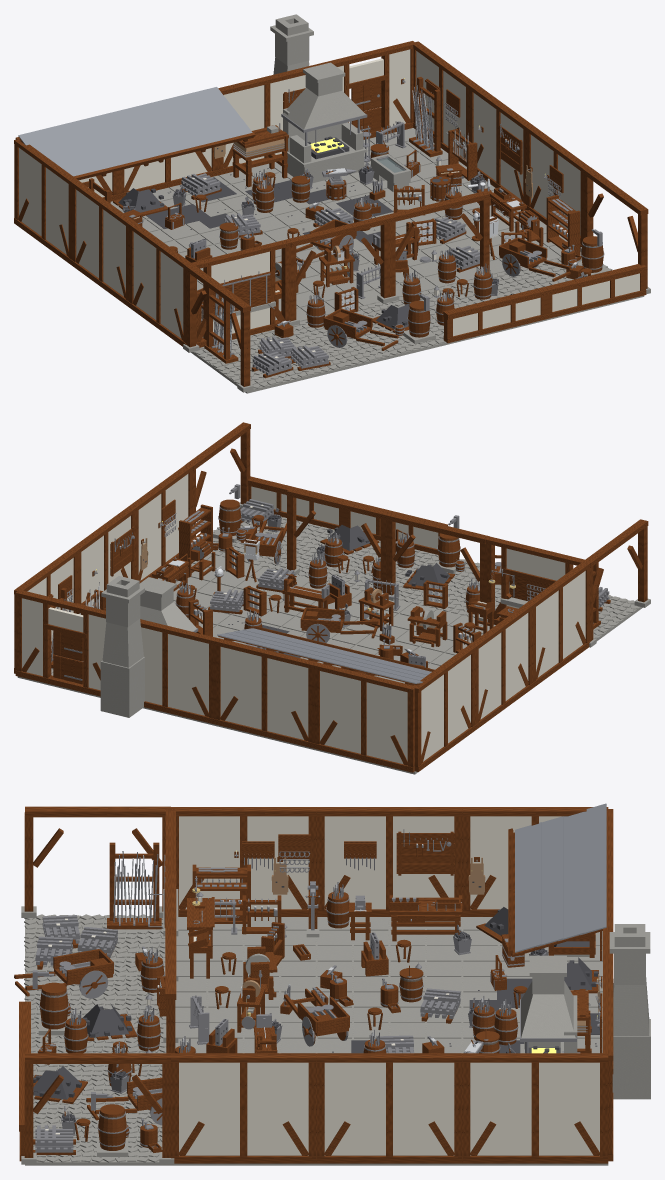
Rendered from blacksmith--bb9e9c8a-starter-scene.glb.
3 views of the same model, one above another, from view 1: azimuth 30°, elevation 25°; view 2: azimuth 150°, elevation 25°; view 3: azimuth 270°, elevation 25° (orthographic). The views are drawn at different scales.
Parts seen in each view (by area): view 1: 035-blacksmith-forge-and-armoury-forge-hearth-and-hood/0, 034-blacksmith-forge-and-armoury-lean-to-roof-panel/1, 033-blacksmith-forge-and-armoury-lean-to-roof-panel/1, 022-blacksmith-forge-and-armoury-timber-frame-wall/0, 007-blacksmith-forge-and-armoury-forge-floor-slab-cobbled/0, 020-blacksmith-forge-and-armoury-timber-frame-wall/0, 021-blacksmith-forge-and-armoury-timber-frame-wall/0, 003-blacksmith-forge-and-armoury-forge-floor-slab-cobbled/0, 028-blacksmith-forge-and-armoury-shutter-counter-front/0, 029-blacksmith-forge-and-armoury-timber-frame-bay/1, 023-blacksmith-forge-and-armoury-timber-frame-bay/1, 025-blacksmith-forge-and-armoury-timber-frame-wall/0 (+60 smaller); view 2: 017-blacksmith-forge-and-armoury-timber-frame-wall/0, 016-blacksmith-forge-and-armoury-timber-frame-wall/0, 036-blacksmith-forge-and-armoury-chimney-stack/0, 018-blacksmith-forge-and-armoury-timber-frame-wall/0, 016-blacksmith-forge-and-armoury-timber-frame-wall/1, 019-blacksmith-forge-and-armoury-stable-door-module/0, 021-blacksmith-forge-and-armoury-timber-frame-wall/0, 017-blacksmith-forge-and-armoury-timber-frame-wall/1, 020-blacksmith-forge-and-armoury-timber-frame-wall/0, 022-blacksmith-forge-and-armoury-timber-frame-wall/0, 019-blacksmith-forge-and-armoury-stable-door-module/1, 006-blacksmith-forge-and-armoury-forge-floor-slab/0 (+51 smaller); view 3: 025-blacksmith-forge-and-armoury-timber-frame-wall/0, 026-blacksmith-forge-and-armoury-timber-frame-wall/0, 024-blacksmith-forge-and-armoury-timber-frame-wall/0, 022-blacksmith-forge-and-armoury-timber-frame-wall/0, 021-blacksmith-forge-and-armoury-timber-frame-wall/0, 036-blacksmith-forge-and-armoury-chimney-stack/0, 001-blacksmith-forge-and-armoury-forge-floor-slab/0, 034-blacksmith-forge-and-armoury-lean-to-roof-panel/1, 024-blacksmith-forge-and-armoury-timber-frame-wall/1, 025-blacksmith-forge-and-armoury-timber-frame-wall/1, 026-blacksmith-forge-and-armoury-timber-frame-wall/1, 033-blacksmith-forge-and-armoury-lean-to-roof-panel/1 (+70 smaller).
Boxes of the visible parts, x1,y1,x2,y2 form: 035-blacksmith-forge-and-armoury-forge-hearth-and-hood/0: (283, 62, 366, 182); 034-blacksmith-forge-and-armoury-lean-to-roof-panel/1: (118, 87, 252, 156); 033-blacksmith-forge-and-armoury-lean-to-roof-panel/1: (18, 111, 152, 176); 022-blacksmith-forge-and-armoury-timber-frame-wall/0: (133, 232, 183, 338); 007-blacksmith-forge-and-armoury-forge-floor-slab-cobbled/0: (293, 302, 445, 369); 020-blacksmith-forge-and-armoury-timber-frame-wall/0: (19, 148, 68, 254); 021-blacksmith-forge-and-armoury-timber-frame-wall/0: (76, 190, 125, 296); 003-blacksmith-forge-and-armoury-forge-floor-slab-cobbled/0: (191, 328, 346, 393); 028-blacksmith-forge-and-armoury-shutter-counter-front/0: (188, 239, 290, 347); 029-blacksmith-forge-and-armoury-timber-frame-bay/1: (287, 215, 390, 320); 023-blacksmith-forge-and-armoury-timber-frame-bay/1: (185, 265, 250, 386); 025-blacksmith-forge-and-armoury-timber-frame-wall/0: (473, 93, 523, 199); 017-blacksmith-forge-and-armoury-timber-frame-wall/0: (220, 647, 308, 739); 016-blacksmith-forge-and-armoury-timber-frame-wall/0: (320, 671, 407, 764); 036-blacksmith-forge-and-armoury-chimney-stack/0: (100, 576, 144, 717); 018-blacksmith-forge-and-armoury-timber-frame-wall/0: (141, 627, 208, 715); 016-blacksmith-forge-and-armoury-timber-frame-wall/1: (313, 662, 415, 772); 019-blacksmith-forge-and-armoury-stable-door-module/0: (15, 589, 105, 696); 021-blacksmith-forge-and-armoury-timber-frame-wall/0: (478, 613, 528, 719); 017-blacksmith-forge-and-armoury-timber-frame-wall/1: (214, 638, 317, 748); 020-blacksmith-forge-and-armoury-timber-frame-wall/0: (421, 655, 470, 761); 022-blacksmith-forge-and-armoury-timber-frame-wall/0: (536, 571, 585, 677); 019-blacksmith-forge-and-armoury-stable-door-module/1: (22, 598, 106, 690); 006-blacksmith-forge-and-armoury-forge-floor-slab/0: (332, 600, 482, 663); 025-blacksmith-forge-and-armoury-timber-frame-wall/0: (324, 1062, 454, 1155); 026-blacksmith-forge-and-armoury-timber-frame-wall/0: (179, 1062, 308, 1155); 024-blacksmith-forge-and-armoury-timber-frame-wall/0: (470, 1062, 599, 1155); 022-blacksmith-forge-and-armoury-timber-frame-wall/0: (179, 816, 308, 909); 021-blacksmith-forge-and-armoury-timber-frame-wall/0: (324, 816, 454, 909); 036-blacksmith-forge-and-armoury-chimney-stack/0: (609, 924, 650, 1099); 001-blacksmith-forge-and-armoury-forge-floor-slab/0: (316, 917, 462, 977); 034-blacksmith-forge-and-armoury-lean-to-roof-panel/1: (515, 865, 606, 952); 024-blacksmith-forge-and-armoury-timber-frame-wall/1: (462, 1053, 608, 1163); 025-blacksmith-forge-and-armoury-timber-frame-wall/1: (316, 1053, 462, 1163); 026-blacksmith-forge-and-armoury-timber-frame-wall/1: (171, 1053, 316, 1163); 033-blacksmith-forge-and-armoury-lean-to-roof-panel/1: (515, 803, 606, 889).
Size of the model in its own units: 16.42 by 4.97 by 17.48.
Materials: 12 (2 with a texture image).
